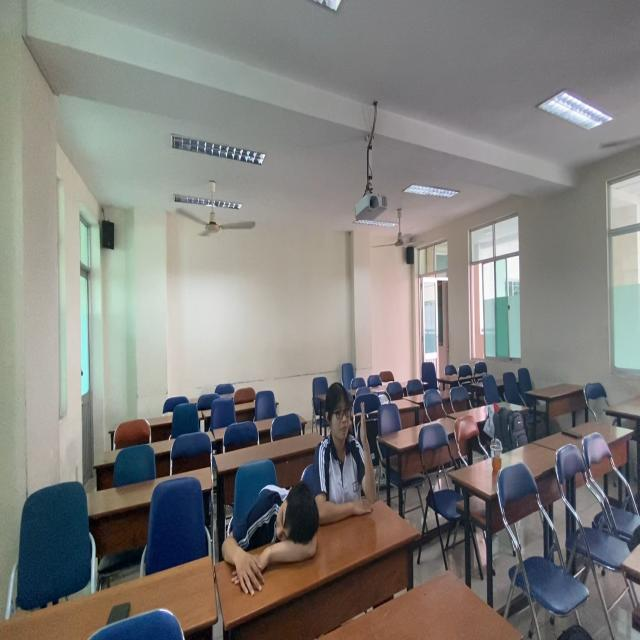raise_hand: (320, 384, 380, 547)
sleep: (225, 476, 323, 592)
